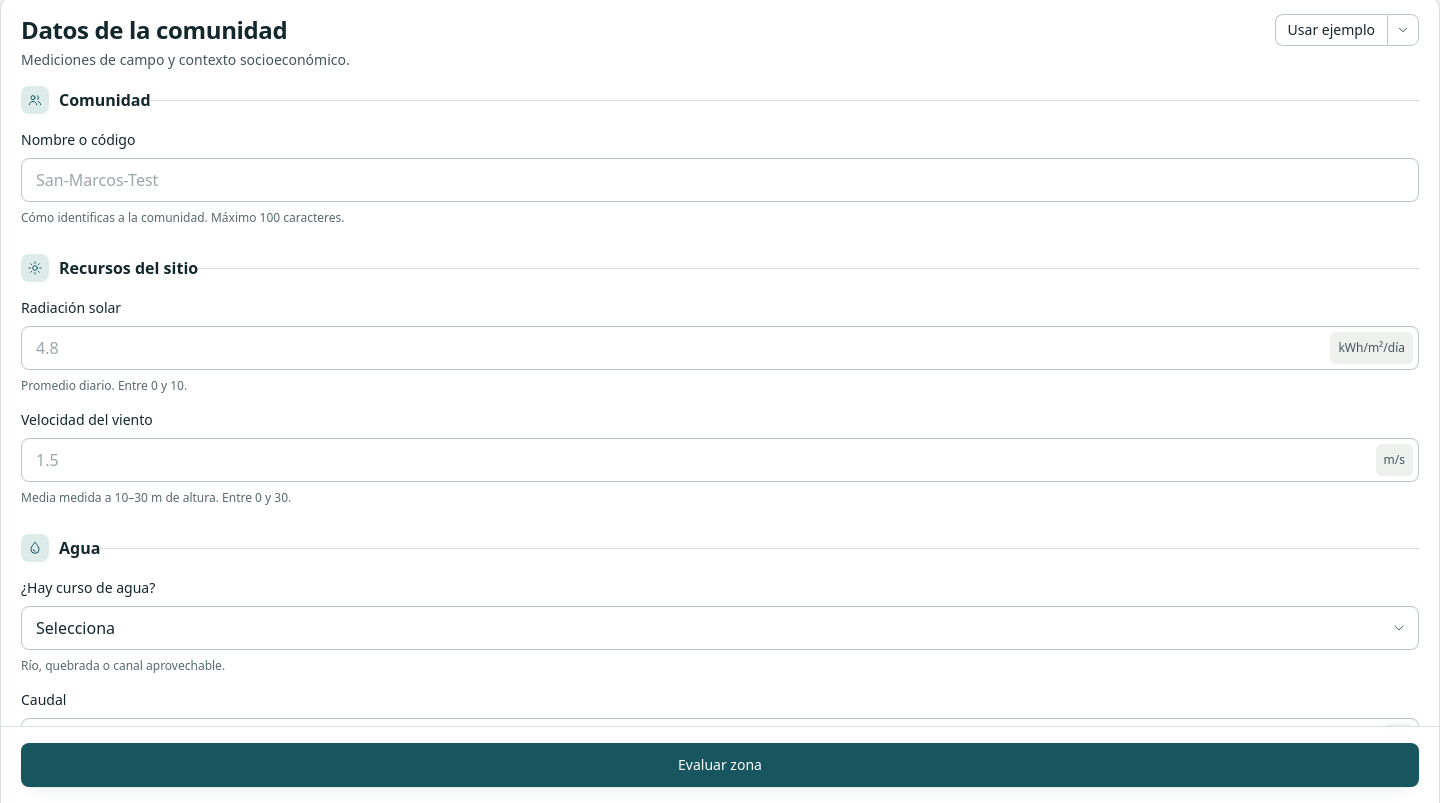
Test: EvaluacionForm › "Usar ejemplo" completa el formulario
Step 1. Click the button "Usar ejemplo" → (1331, 30), box [1275,14,1387,46]
(page scrolled)
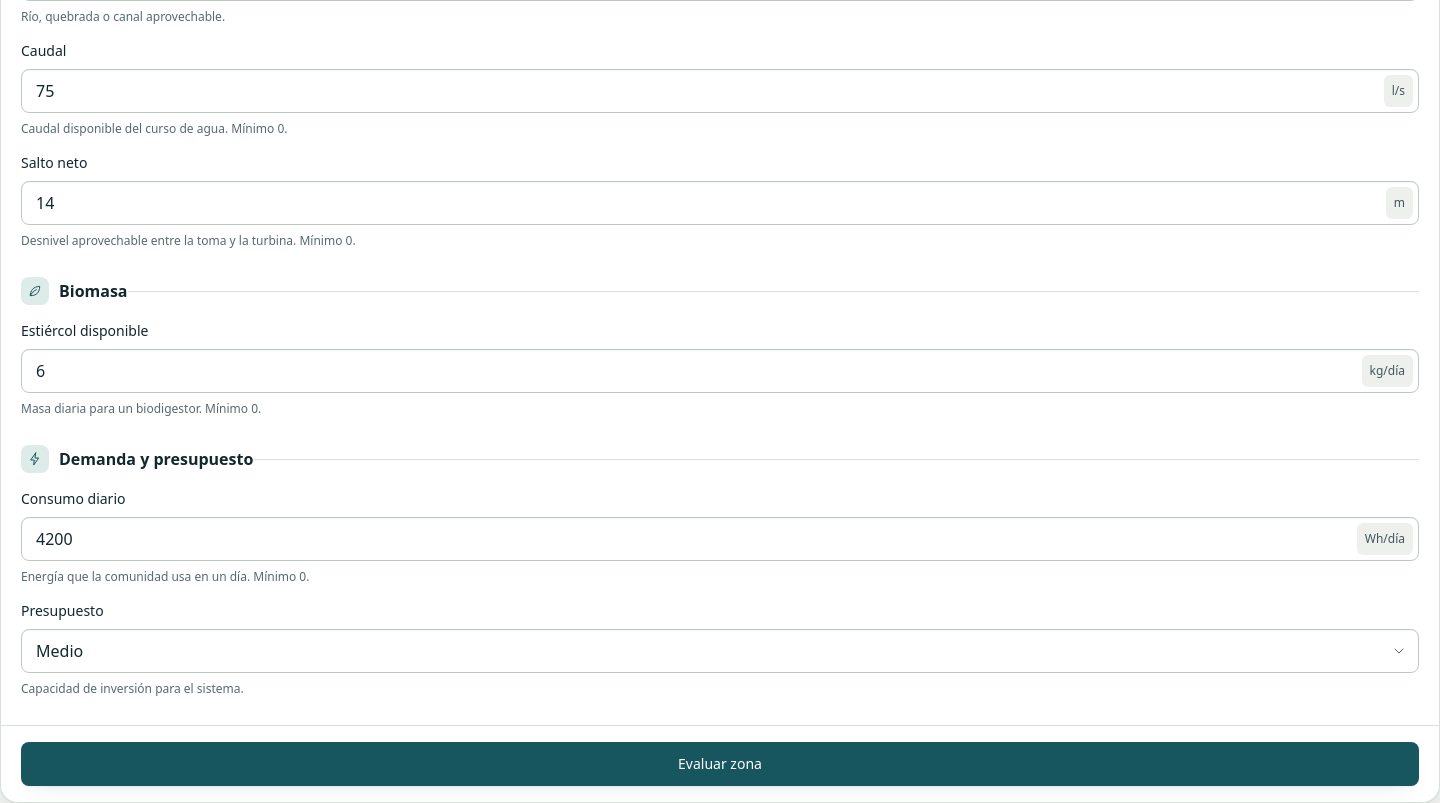
Now the number field labelled "Caudal" holds "75", box [21,69,1419,113]
Now the dropdown labelled "Presupuesto" shows "Medio", box [21,629,1419,673]
